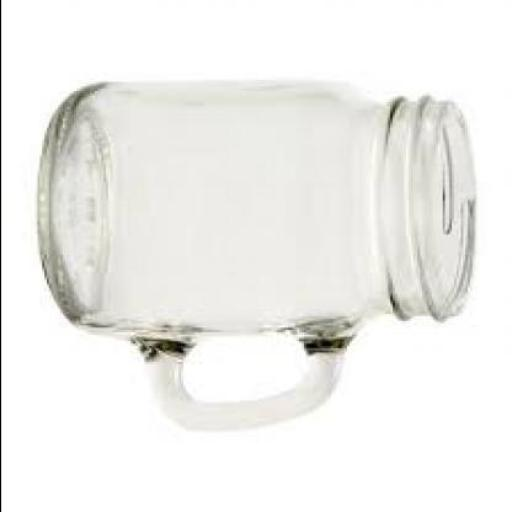glass: (39, 82, 478, 428)
